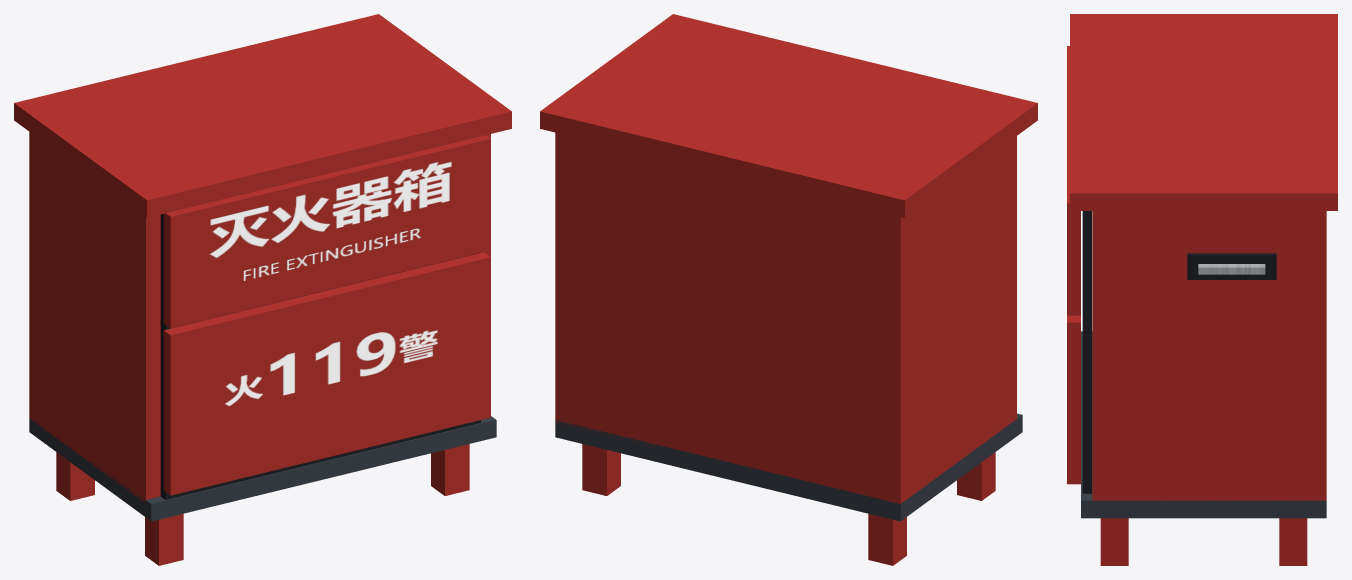
Rendered from extinguisher-compact.glb.
3 renders of one model, left to right at view 1: azimuth 30°, elevation 25°; view 2: azimuth 150°, elevation 25°; view 3: azimuth 270°, elevation 25°, orthographic.
Visible parts, largest first — view 1: ExtinguisherCompact; view 2: ExtinguisherCompact; view 3: ExtinguisherCompact.
Boxes of the visible parts, x1,y1,x2,y2 form: ExtinguisherCompact: (14, 14, 511, 565); ExtinguisherCompact: (540, 14, 1037, 565); ExtinguisherCompact: (1067, 14, 1337, 565).
Bounding box in the file's own units: 0.4997 × 0.5 × 0.3192.
Materials: 5 (2 with a texture image).
